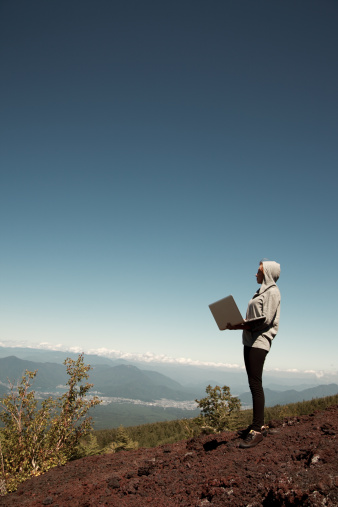em pe: (229, 257, 278, 436)
